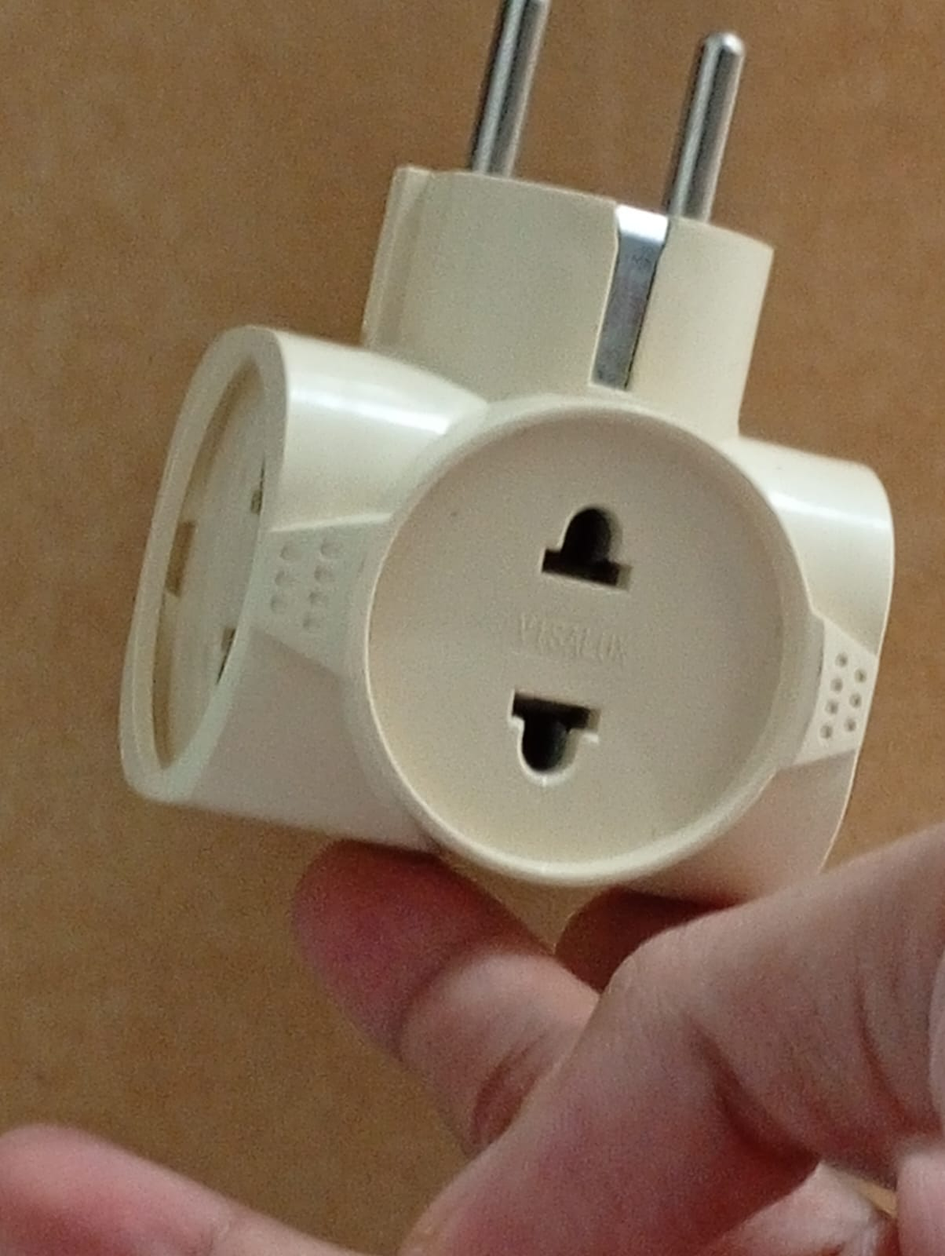Colokan: (60, 0, 942, 910)
